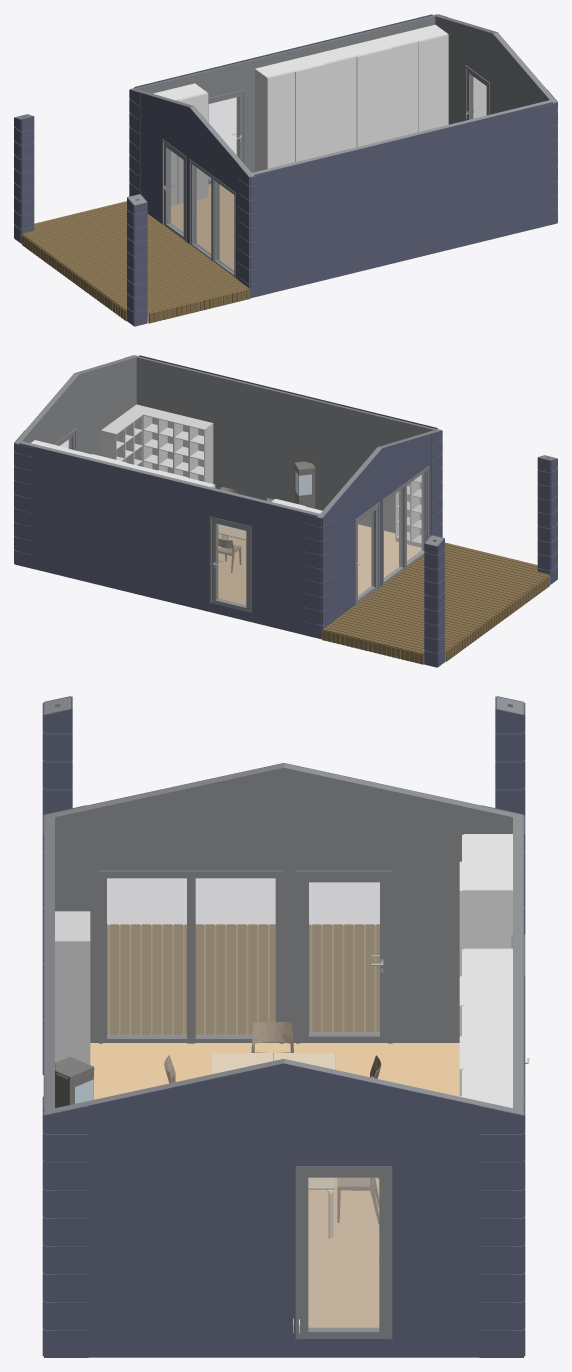
3 views of the same model, one above another, from view 1: azimuth 30°, elevation 25°; view 2: azimuth 150°, elevation 25°; view 3: azimuth 270°, elevation 25° (orthographic). The views are drawn at different scales.
Visible parts, largest first — view 1: IfcBuildingElementProxy/Kampai Kvadratiniai - line based1:M. (×7), IfcFurnishingElement/Ikea spinta:1500 x 600 x 2600mm 2:34004, IfcFurnishingElement/Ikea spinta:1700 x 600 x 2600mm 3:34004, IfcWallStandardCase/Basic Wall:Sandwich - isorines sienos 1. (×2), IfcFurnishingElement/Ikea spinta:1500 x 600 x 2600mm 2:34005, IfcPlate/System Panel:Sandwich užbaigimas Multisplit:3421208, IfcPlate/System Panel:Sandwich užbaigimas Multisplit:3421206, IfcPlate/System Panel:Sandwich užbaigimas Multisplit:3421212, IfcPlate/System Panel:Sandwich užbaigimas Multisplit:3421214, IfcPlate/System Panel:Sandwich užbaigimas Multisplit:3421210, IfcWallStandardCase/Basic Wall:Sandwich - isorines sienos 1, IfcPlate/System Panel:Sandwich užbaigimas Multisplit:3421203 (+15 smaller); view 2: IfcWallStandardCase/Basic Wall:Sandwich - isorines sienos 12, IfcBuildingElementProxy/Kampai Kvadratiniai - line based1:M. (×7), IfcWallStandardCase/Basic Wall:Sandwich - isorines sienos 1. (×2), IfcFurnishingElement/Bookcase QBUS 3 shelves base frame 163. (×7), IfcPlate/System Panel:Sandwich užbaigimas Multisplit:3421264, IfcPlate/System Panel:Sandwich užbaigimas Multisplit:3421266, IfcPlate/System Panel:Sandwich užbaigimas Multisplit:3421268, IfcPlate/System Panel:Sandwich užbaigimas Multisplit:3421257, IfcDoor/Durys išorinės:1000x2100x120 (kairinės):3400018, IfcPlate/System Panel:Sandwich užbaigimas Multisplit:3421262, IfcPlate/System Panel:Sandwich užbaigimas Multisplit:3421260, IfcSlab/Floor:Sumustinis pilnas + strodur:3188522 (+14 smaller); view 3: IfcWallStandardCase/Basic Wall:Sandwich - isorines sienos 1. (×2), IfcBuildingElementProxy/Kampai Kvadratiniai - line based1:M. (×4), IfcPlate/System Panel:Sandwich užbaigimas Multisplit:3421236, IfcPlate/System Panel:Sandwich užbaigimas Multisplit:3421234, IfcSlab/Floor:Sumustinis pilnas + strodur:3188522, IfcPlate/System Panel:Sandwich užbaigimas Multisplit:3421229, IfcWindow/Langai (Akrusta):1000x2100x120 (dešininis):3404680, IfcDoor/Durys išorinės:1000x2100x120 (kairinės):3402593, IfcWindow/Langai (Akrusta):1000x2100x120:3401065, IfcWindow/Langai (Akrusta):1000x2100x120:3188640, IfcPlate/System Panel:Sandwich užbaigimas Multisplit:3421232, IfcPlate/System Panel:Sandwich užbaigimas Multisplit:3421238 (+30 smaller).
Boxes of the visible parts, x1,y1,x2,y2 form: IfcBuildingElementProxy/Kampai Kvadratiniai - line based1:M. (×7): (14, 89, 557, 326); IfcFurnishingElement/Ikea spinta:1500 x 600 x 2600mm 2:34004: (255, 54, 325, 171); IfcFurnishingElement/Ikea spinta:1700 x 600 x 2600mm 3:34004: (313, 38, 390, 154); IfcWallStandardCase/Basic Wall:Sandwich - isorines sienos 1. (×2): (133, 15, 556, 173); IfcFurnishingElement/Ikea spinta:1500 x 600 x 2600mm 2:34005: (378, 24, 448, 138); IfcPlate/System Panel:Sandwich užbaigimas Multisplit:3421208: (422, 123, 466, 255); IfcPlate/System Panel:Sandwich užbaigimas Multisplit:3421206: (466, 112, 509, 245); IfcPlate/System Panel:Sandwich užbaigimas Multisplit:3421212: (336, 144, 379, 277); IfcPlate/System Panel:Sandwich užbaigimas Multisplit:3421214: (292, 155, 335, 287); IfcPlate/System Panel:Sandwich užbaigimas Multisplit:3421210: (379, 134, 422, 266); IfcWallStandardCase/Basic Wall:Sandwich - isorines sienos 1: (130, 14, 439, 172); IfcPlate/System Panel:Sandwich užbaigimas Multisplit:3421203: (509, 102, 552, 234); IfcWallStandardCase/Basic Wall:Sandwich - isorines sienos 12: (136, 356, 441, 532); IfcBuildingElementProxy/Kampai Kvadratiniai - line based1:M. (×7): (14, 430, 557, 667); IfcWallStandardCase/Basic Wall:Sandwich - isorines sienos 1. (×2): (18, 355, 438, 514); IfcFurnishingElement/Bookcase QBUS 3 shelves base frame 163. (×7): (101, 408, 213, 483); IfcPlate/System Panel:Sandwich užbaigimas Multisplit:3421264: (144, 473, 187, 606); IfcPlate/System Panel:Sandwich užbaigimas Multisplit:3421266: (100, 463, 143, 595); IfcPlate/System Panel:Sandwich užbaigimas Multisplit:3421268: (57, 452, 100, 584); IfcPlate/System Panel:Sandwich užbaigimas Multisplit:3421257: (274, 505, 317, 637); IfcDoor/Durys išorinės:1000x2100x120 (kairinės):3400018: (209, 516, 251, 612); IfcPlate/System Panel:Sandwich užbaigimas Multisplit:3421262: (187, 484, 230, 616); IfcPlate/System Panel:Sandwich užbaigimas Multisplit:3421260: (230, 494, 273, 627); IfcSlab/Floor:Sumustinis pilnas + strodur:3188522: (218, 524, 421, 605); IfcWallStandardCase/Basic Wall:Sandwich - isorines sienos 1. (×2): (44, 763, 512, 1114); IfcBuildingElementProxy/Kampai Kvadratiniai - line based1:M. (×4): (44, 709, 523, 1357); IfcPlate/System Panel:Sandwich užbaigimas Multisplit:3421236: (112, 1078, 212, 1357); IfcPlate/System Panel:Sandwich užbaigimas Multisplit:3421234: (212, 1063, 312, 1357); IfcSlab/Floor:Sumustinis pilnas + strodur:3188522: (90, 1043, 459, 1327); IfcPlate/System Panel:Sandwich užbaigimas Multisplit:3421229: (413, 1091, 512, 1357); IfcWindow/Langai (Akrusta):1000x2100x120 (dešininis):3404680: (295, 1166, 392, 1339); IfcDoor/Durys išorinės:1000x2100x120 (kairinės):3402593: (296, 870, 392, 1043); IfcWindow/Langai (Akrusta):1000x2100x120:3401065: (98, 870, 195, 1043); IfcWindow/Langai (Akrusta):1000x2100x120:3188640: (187, 870, 283, 1043); IfcPlate/System Panel:Sandwich užbaigimas Multisplit:3421232: (313, 1069, 412, 1357); IfcPlate/System Panel:Sandwich užbaigimas Multisplit:3421238: (55, 1100, 112, 1357).
Size of the model in its own units: 1120 by 367 by 548.
